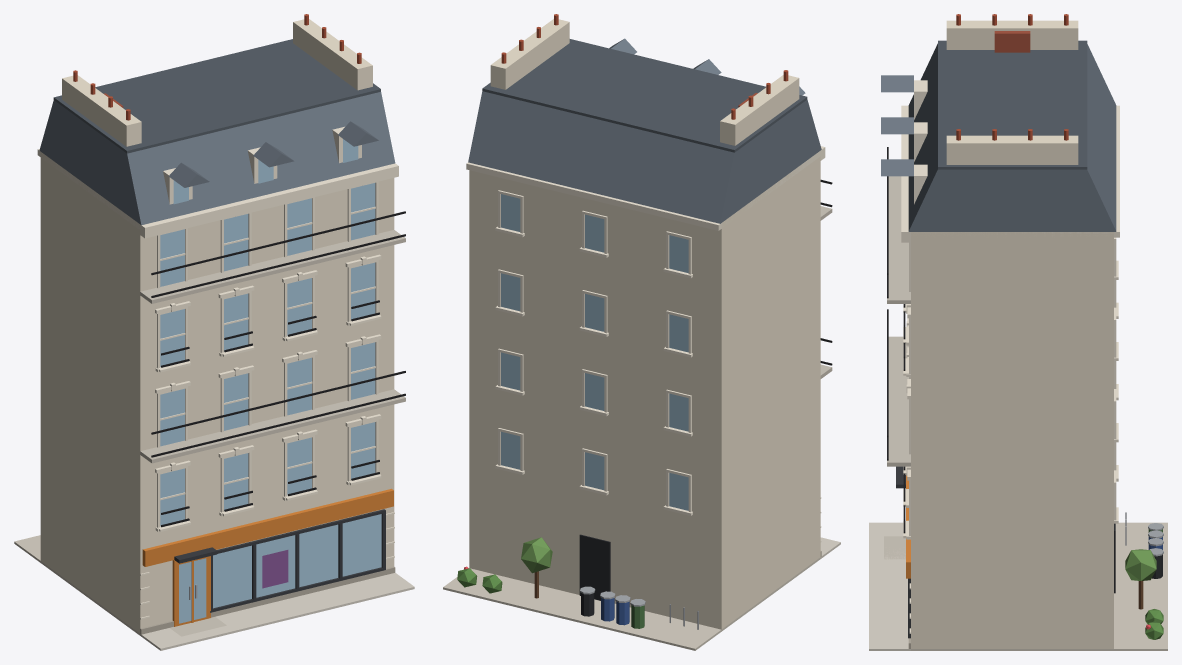
File: Blok_duz_5k_1_Hafif.fbx
The picture shows the model from 3 angles, left to right: view 1: azimuth 30°, elevation 25°; view 2: azimuth 150°, elevation 25°; view 3: azimuth 270°, elevation 25°; orthographic projection. The views are drawn at different scales.
Parts seen in each view (by area): view 1: Blok_duz_5k_1_Hafif; view 2: Blok_duz_5k_1_Hafif; view 3: Blok_duz_5k_1_Hafif.
Part boxes in pixels (x1,y1,x2,y2): Blok_duz_5k_1_Hafif: [14, 14, 414, 650]; Blok_duz_5k_1_Hafif: [443, 14, 840, 650]; Blok_duz_5k_1_Hafif: [869, 14, 1167, 650].
Size of the model in its own units: 10 by 19.07 by 10.
